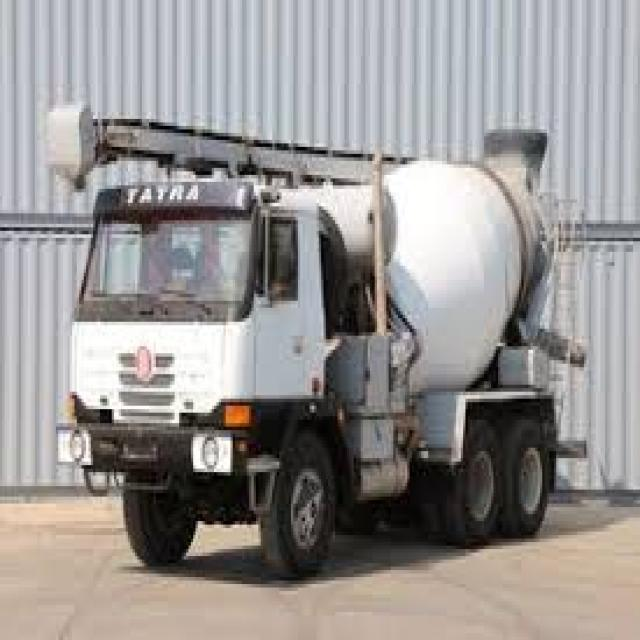Mixer Truck: (52, 123, 580, 579)
